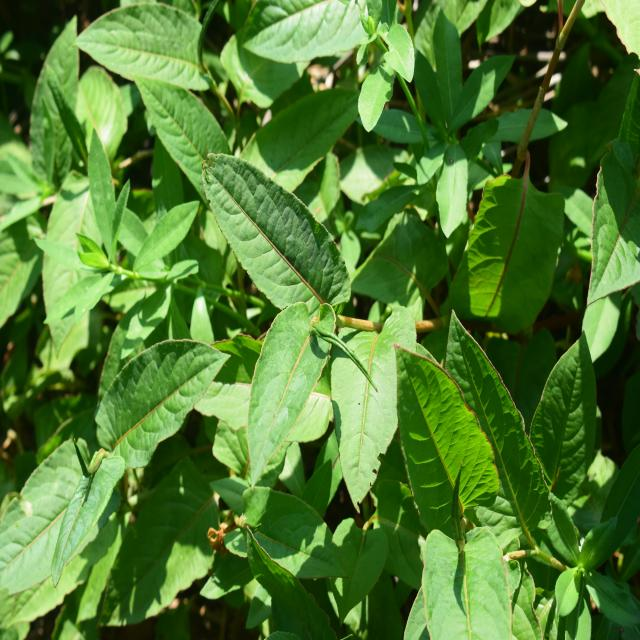Chinese_knotweed: (396, 270, 602, 640), (217, 141, 408, 484), (4, 326, 212, 626)
